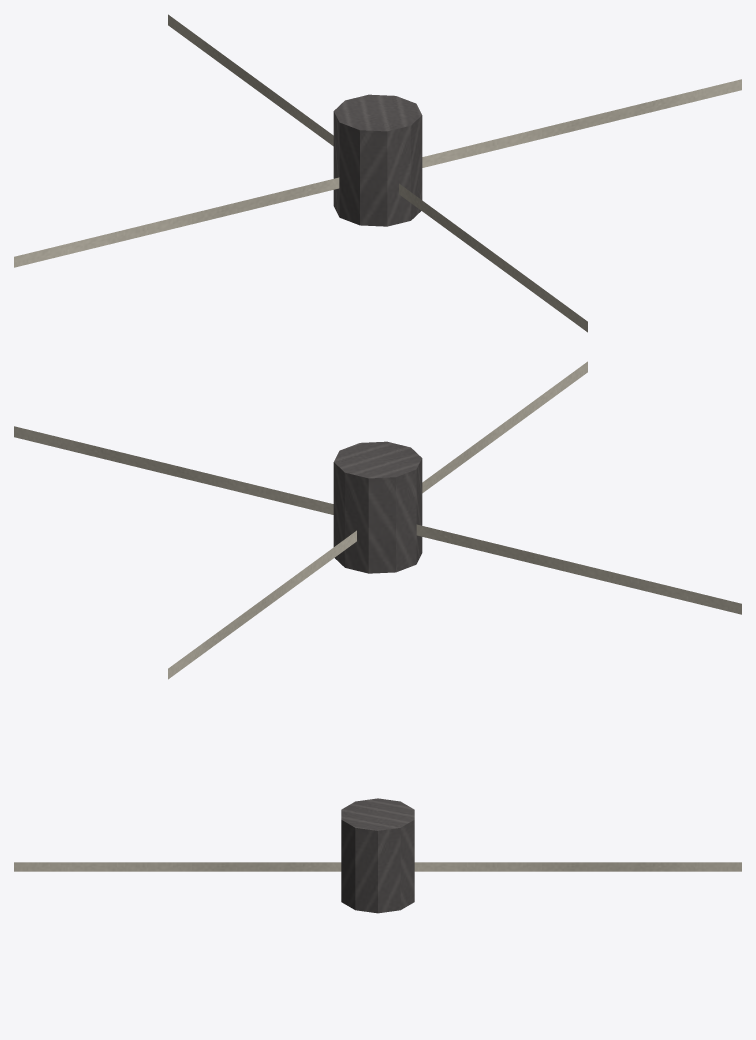
File: ceilingfan_v2.glb
The picture shows the model from 3 angles, top to bottom: view 1: azimuth 30°, elevation 25°; view 2: azimuth 150°, elevation 25°; view 3: azimuth 270°, elevation 25°; orthographic projection. The views are drawn at different scales.
Visible parts, largest first — view 1: Variant_ceilingfan_2; view 2: Variant_ceilingfan_2; view 3: Variant_ceilingfan_2.
Boxes of the visible parts, bbox=[...] form: Variant_ceilingfan_2: bbox=[14, 14, 741, 332]; Variant_ceilingfan_2: bbox=[14, 361, 741, 679]; Variant_ceilingfan_2: bbox=[14, 798, 741, 913].
Size of the model in its own units: 1.04 by 0.13 by 1.04.
Materials: 2 (2 with a texture image).
